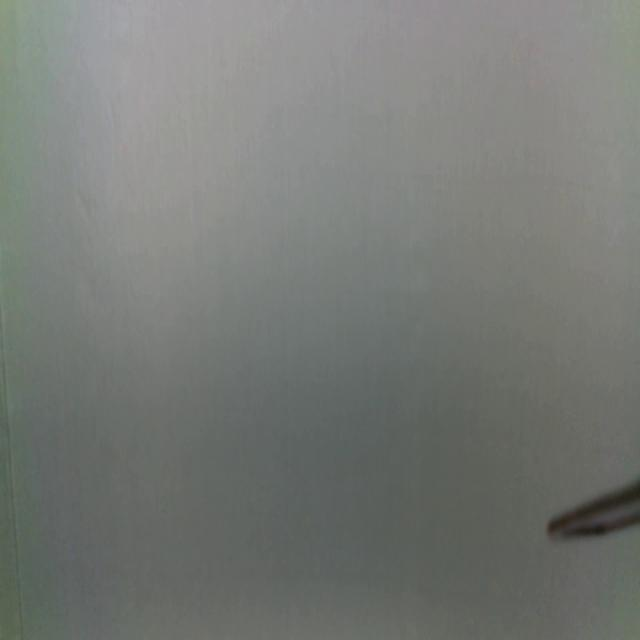crease: (0, 309, 24, 640)
